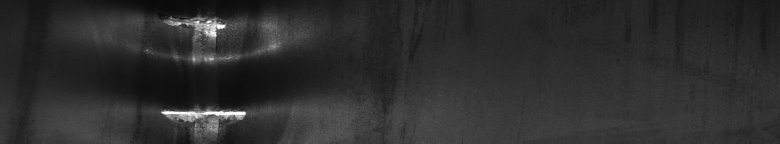ke: (94, 4, 406, 136)
